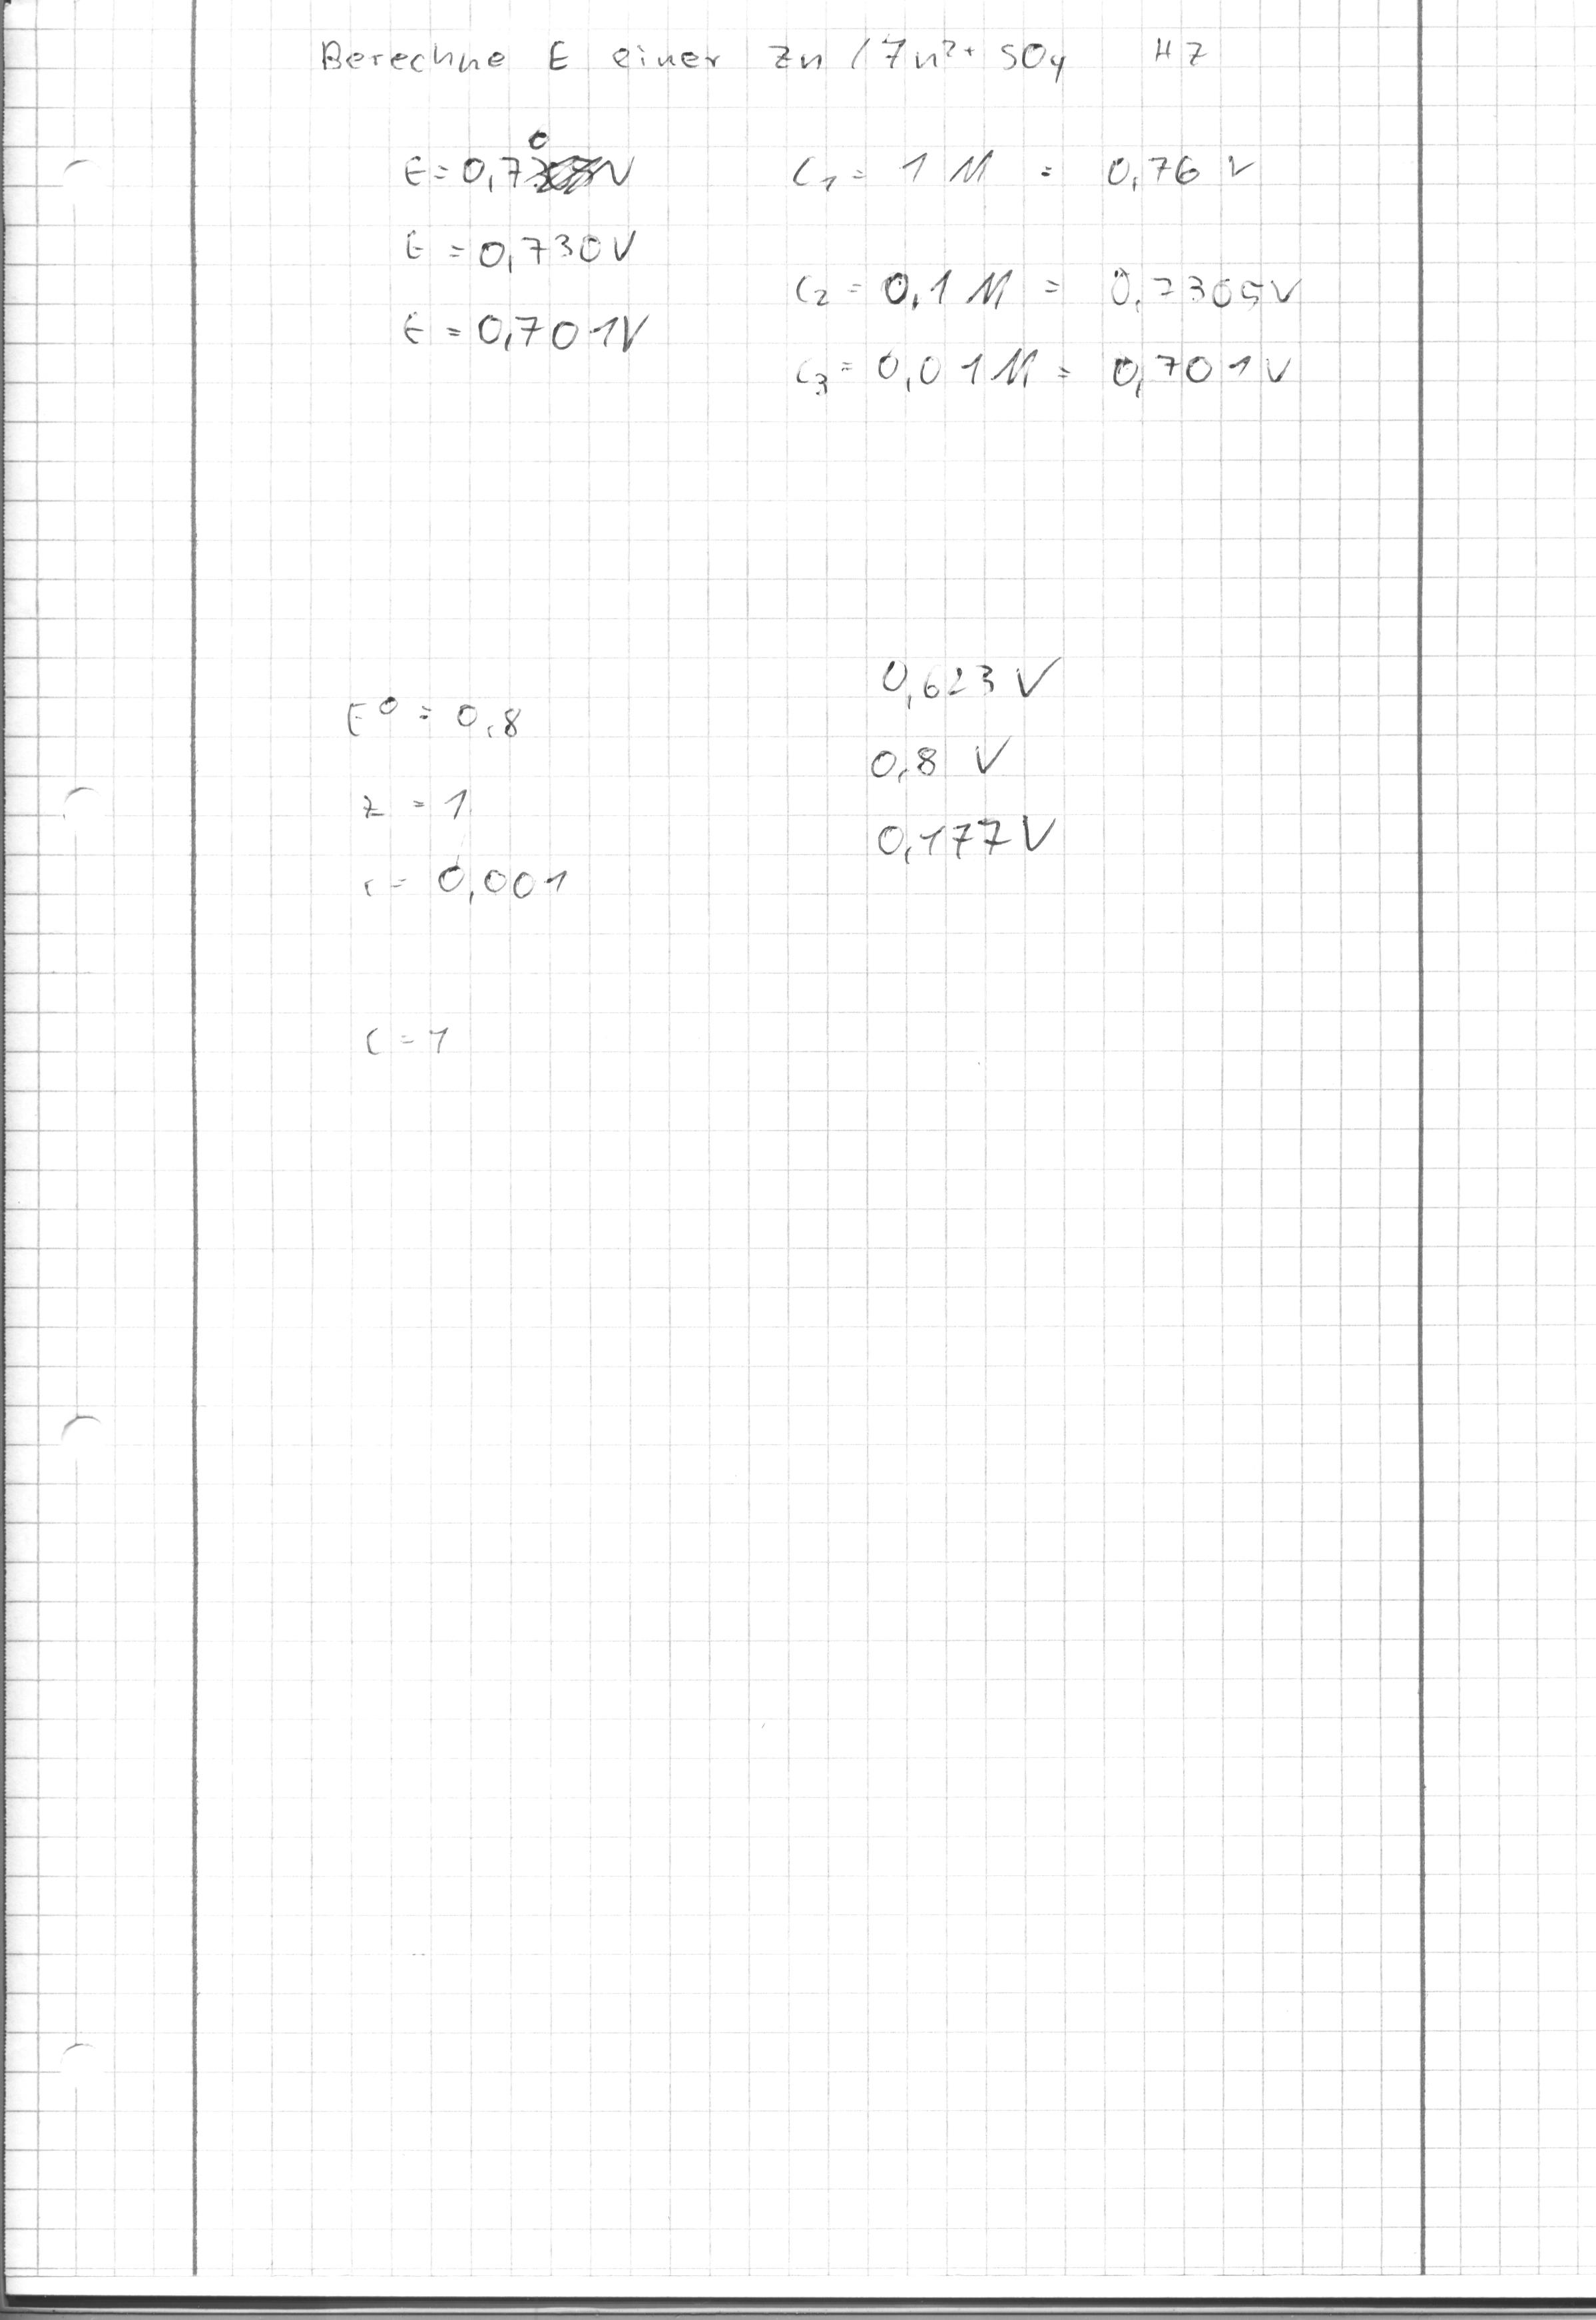word: (785, 260, 1316, 404), (312, 10, 1218, 94), (385, 125, 656, 379), (326, 669, 597, 920), (776, 117, 1276, 218), (861, 648, 1081, 868)
